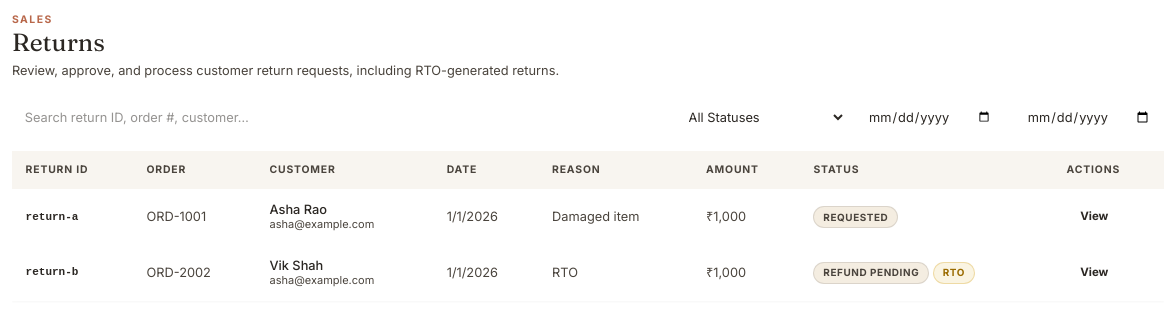
Test: AdminReturnList › renders returns with key columns and supports status/search filtering
Check: the text "ORD-1001" is shown, box [133, 189, 256, 245]
Check: the text "ORD-2002" is shown, box [133, 245, 256, 300]
In the search field with placeholder "Search return ID, order #, customer…": (338,117) [12, 98, 663, 136], type "Vik"
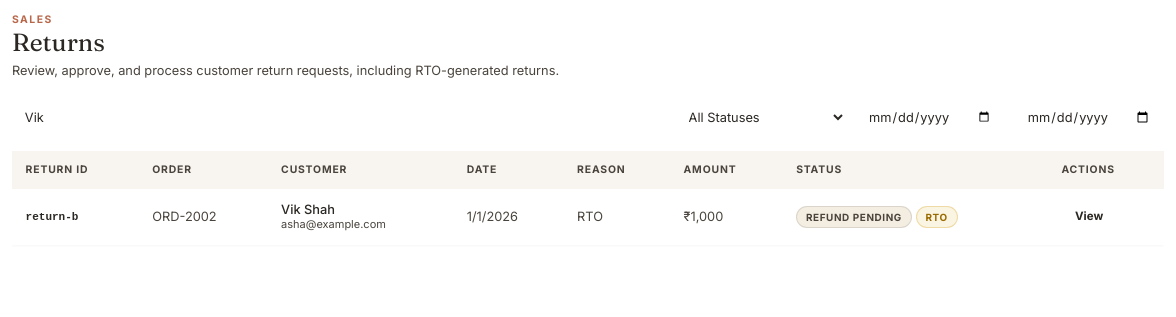
Check: the text "ORD-2002" is shown, box [139, 189, 268, 245]
Check: the text "ORD-1001" is gone
